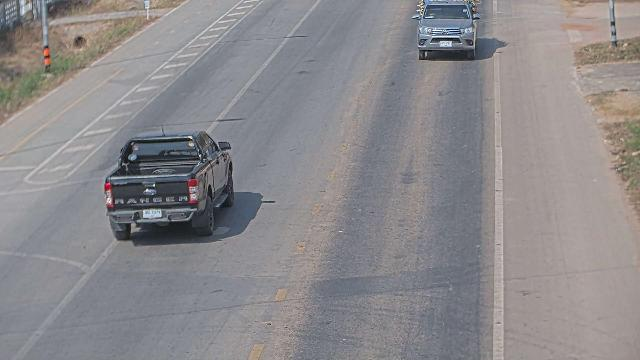pickup-truck: (103, 125, 235, 240), (411, 0, 480, 60)
